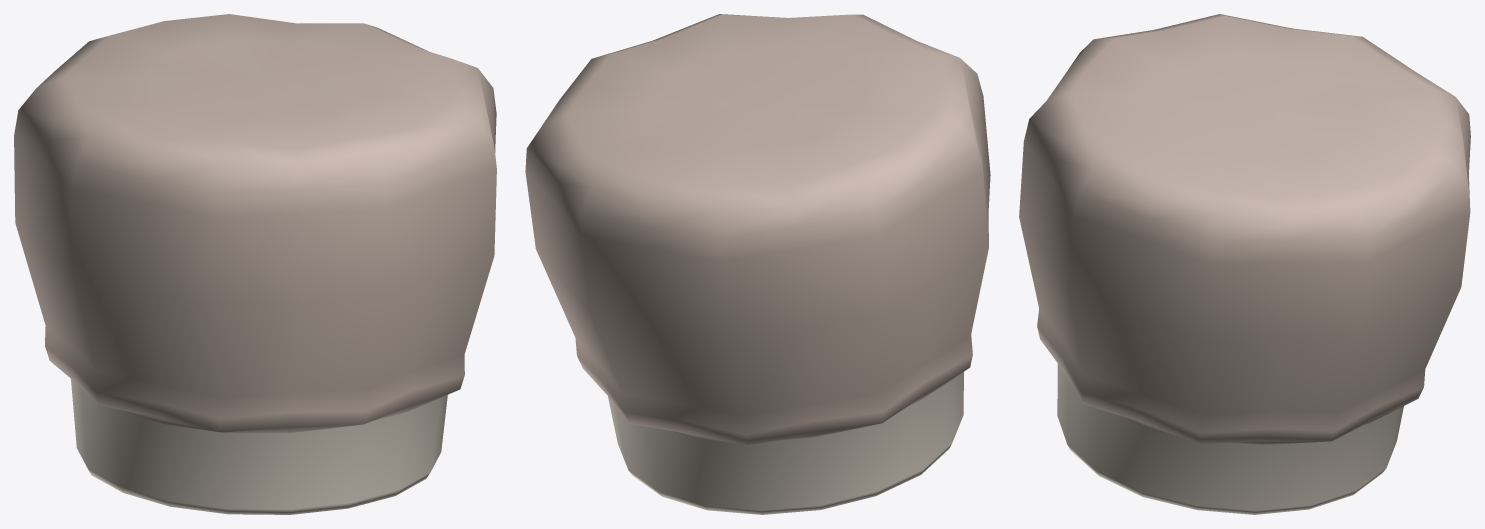
File: Hat_39_02.fbx
3 renders of one model, left to right at view 1: azimuth 30°, elevation 25°; view 2: azimuth 150°, elevation 25°; view 3: azimuth 270°, elevation 25°, orthographic. The views are drawn at different scales.
Visible parts, largest first — view 1: Hat_39_02; view 2: Hat_39_02; view 3: Hat_39_02.
Boxes of the visible parts, x1,y1,x2,y2 form: Hat_39_02: [14, 14, 496, 514]; Hat_39_02: [525, 14, 990, 514]; Hat_39_02: [1019, 14, 1470, 514].
Bounding box in the file's own units: 50.23 × 44.62 × 49.27.
